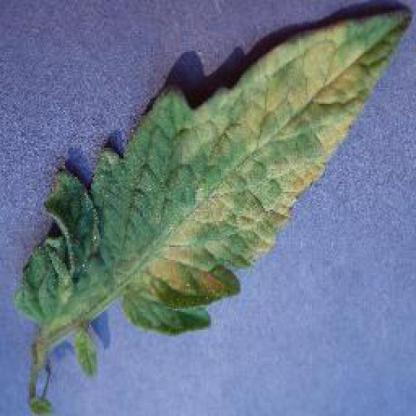Tomato_Leaf_Mold: (93, 11, 408, 336)
